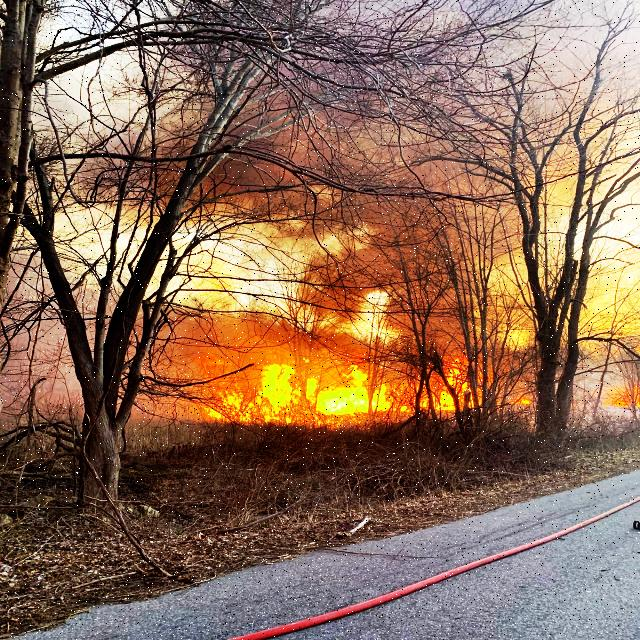api: (184, 347, 534, 433)
asap: (77, 1, 638, 345)
